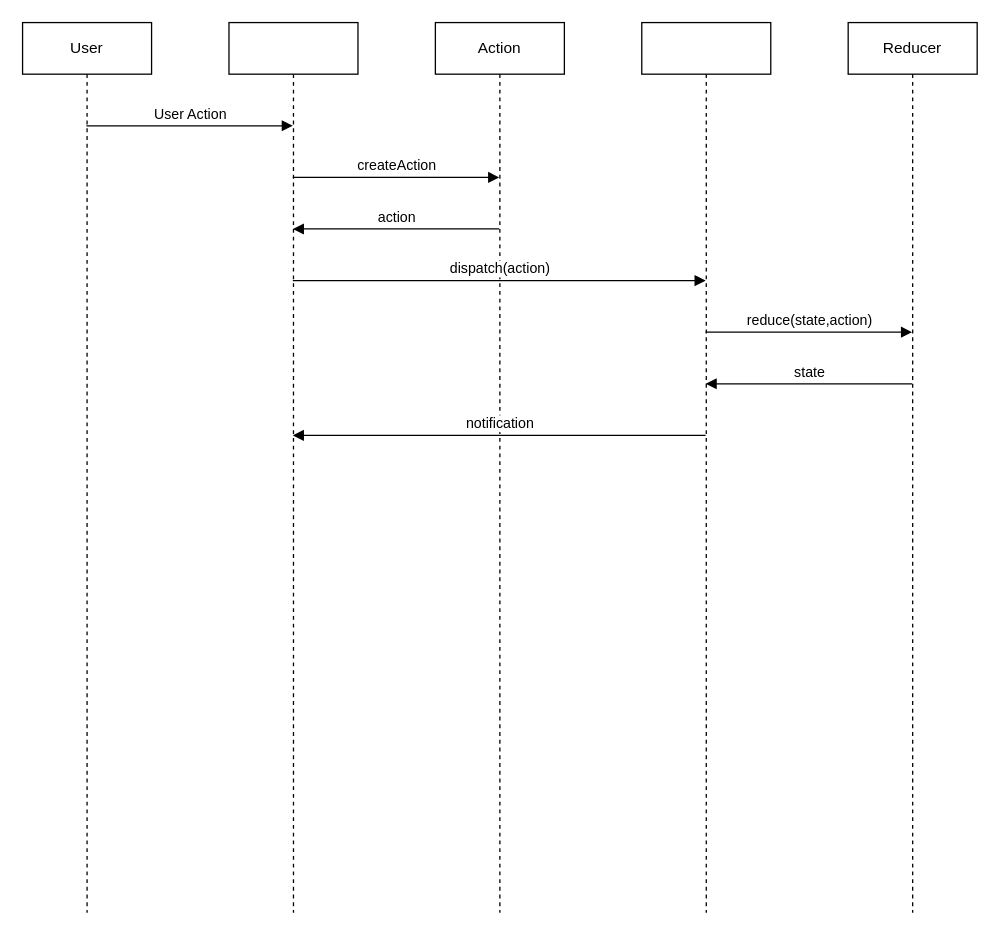
This 1000x935 diagram has some shape labels left out. Each missing label, with the box of its shape:
Store: (640, 21, 771, 913)
View: (228, 21, 358, 913)
